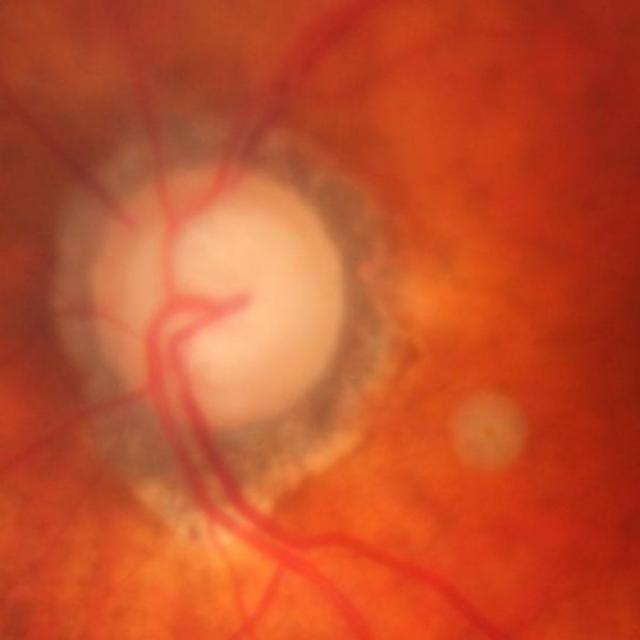OC: (144, 209, 295, 362)
OD: (85, 165, 348, 427)
